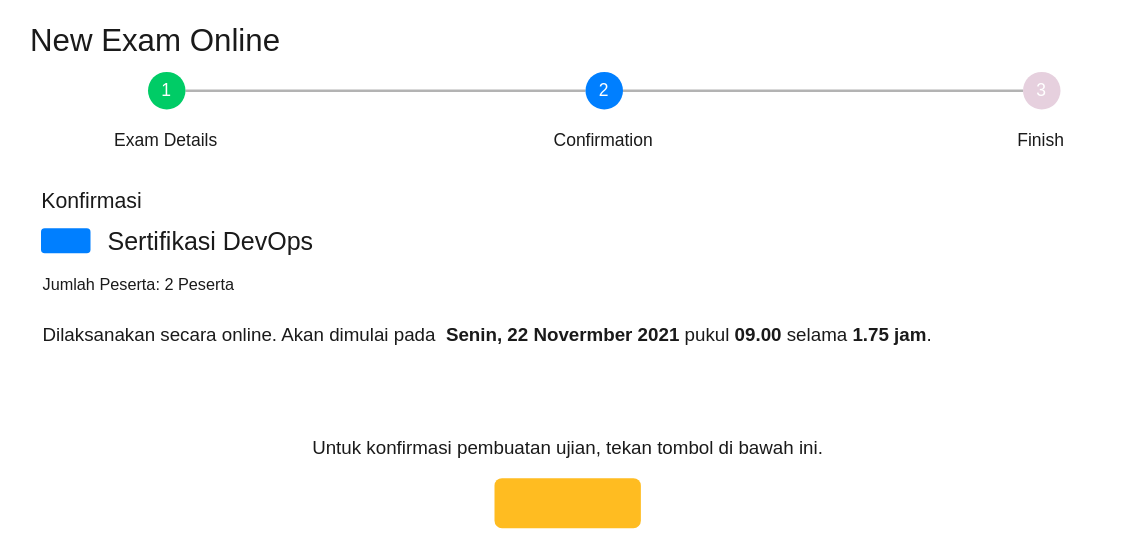
This 1124x550 diagram has some shape labels left out. Each missing label, with the centre of its shape:
Create Exam: the point at 567,503
QUIZ: the point at 65,240
